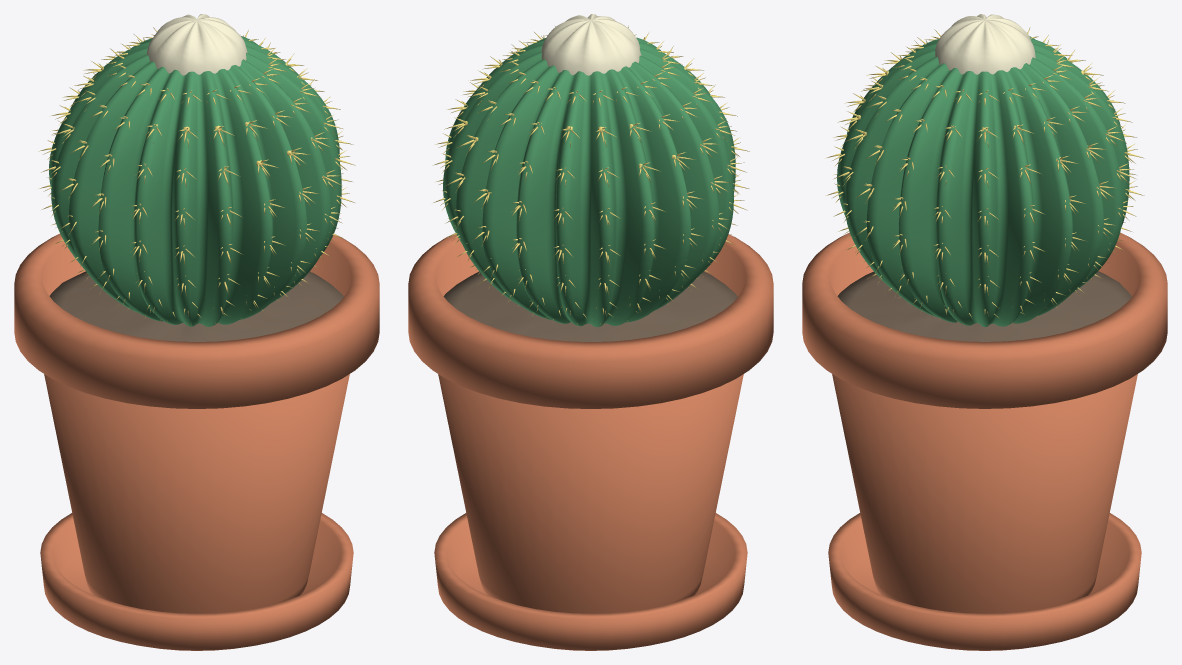
3 views of the same model, side by side, from view 1: azimuth 30°, elevation 25°; view 2: azimuth 150°, elevation 25°; view 3: azimuth 270°, elevation 25° (orthographic).
Visible parts, largest first — view 1: CactusBody, PotBody, PotRim, Saucer, Soil, SpineRings, CactusCrown; view 2: CactusBody, PotBody, PotRim, Saucer, Soil, SpineRings, CactusCrown; view 3: CactusBody, PotBody, PotRim, Saucer, Soil, SpineRings, CactusCrown.
Part boxes in pixels (<box>): CactusBody: <box>49,36,341,326</box>; PotBody: <box>44,374,349,613</box>; PotRim: <box>14,233,379,408</box>; Saucer: <box>40,513,353,650</box>; Soil: <box>49,271,343,341</box>; SpineRings: <box>39,27,355,325</box>; CactusCrown: <box>146,14,247,75</box>; CactusBody: <box>443,37,735,327</box>; PotBody: <box>438,374,743,613</box>; PotRim: <box>408,233,773,408</box>; Saucer: <box>434,513,747,650</box>; Soil: <box>443,271,737,341</box>; SpineRings: <box>432,25,749,326</box>; CactusCrown: <box>541,14,641,75</box>; CactusBody: <box>837,36,1129,326</box>; PotBody: <box>832,374,1137,613</box>; PotRim: <box>802,232,1167,408</box>; Saucer: <box>828,513,1141,650</box>; Soil: <box>837,271,1131,341</box>; SpineRings: <box>825,27,1144,325</box>; CactusCrown: <box>935,14,1035,74</box>.
Size of the model in its own units: 0.21 by 0.3625 by 0.21.
